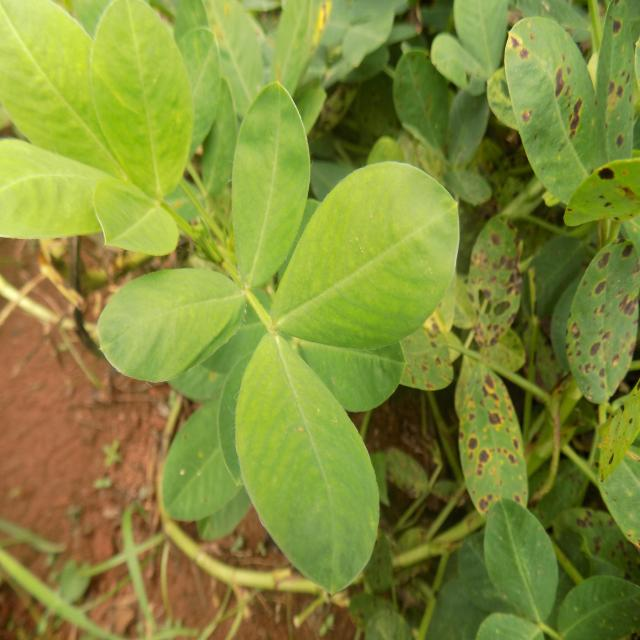Ground nut_healthy: (270, 156, 458, 375), (242, 340, 369, 586), (86, 0, 189, 194), (234, 83, 310, 307), (90, 268, 236, 382), (0, 134, 124, 256), (92, 170, 178, 266), (481, 497, 549, 609)
Ground nut_tikka leaf spot: (507, 19, 614, 208), (470, 360, 537, 532), (578, 232, 636, 413), (449, 242, 518, 342)
